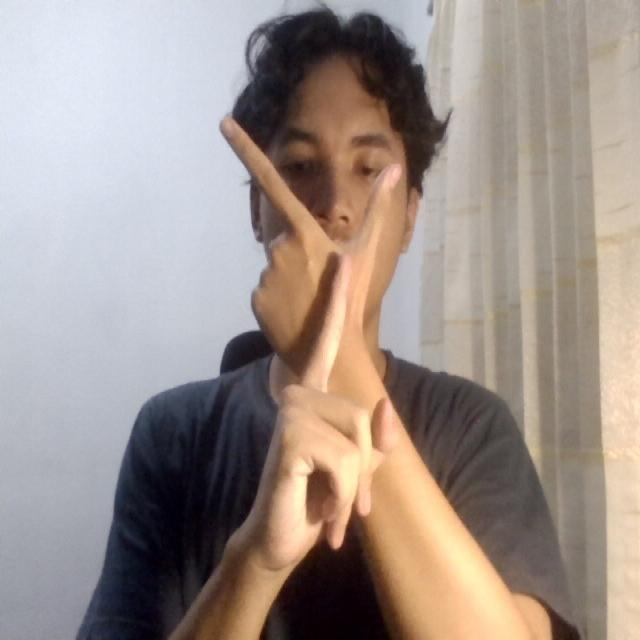No: (201, 98, 446, 554)
